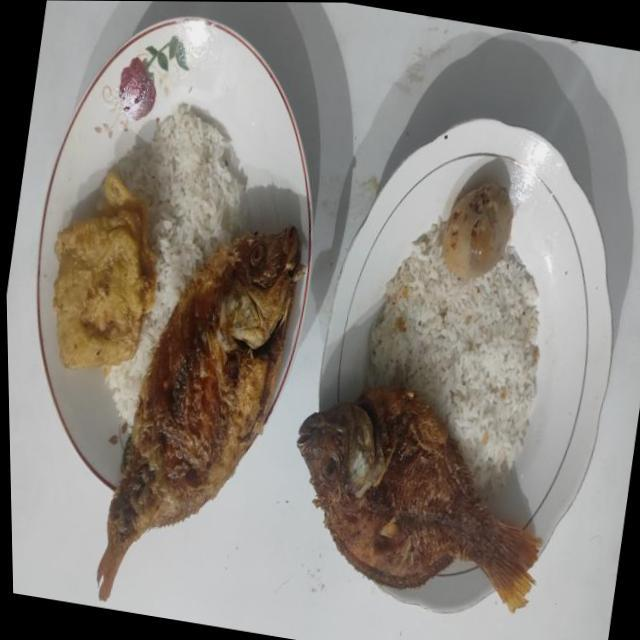ikan_mujair: (99, 226, 304, 600), (296, 386, 540, 612)
nasi_putih: (368, 220, 540, 488), (106, 105, 245, 424)
